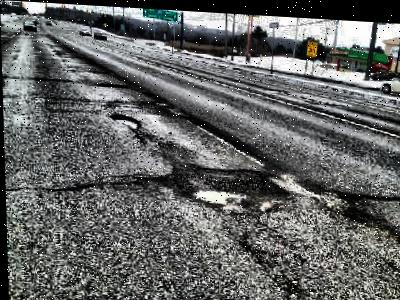pothole: (153, 157, 291, 206), (232, 136, 267, 159), (338, 187, 400, 199), (106, 110, 140, 129), (141, 87, 163, 101), (98, 80, 129, 87)
